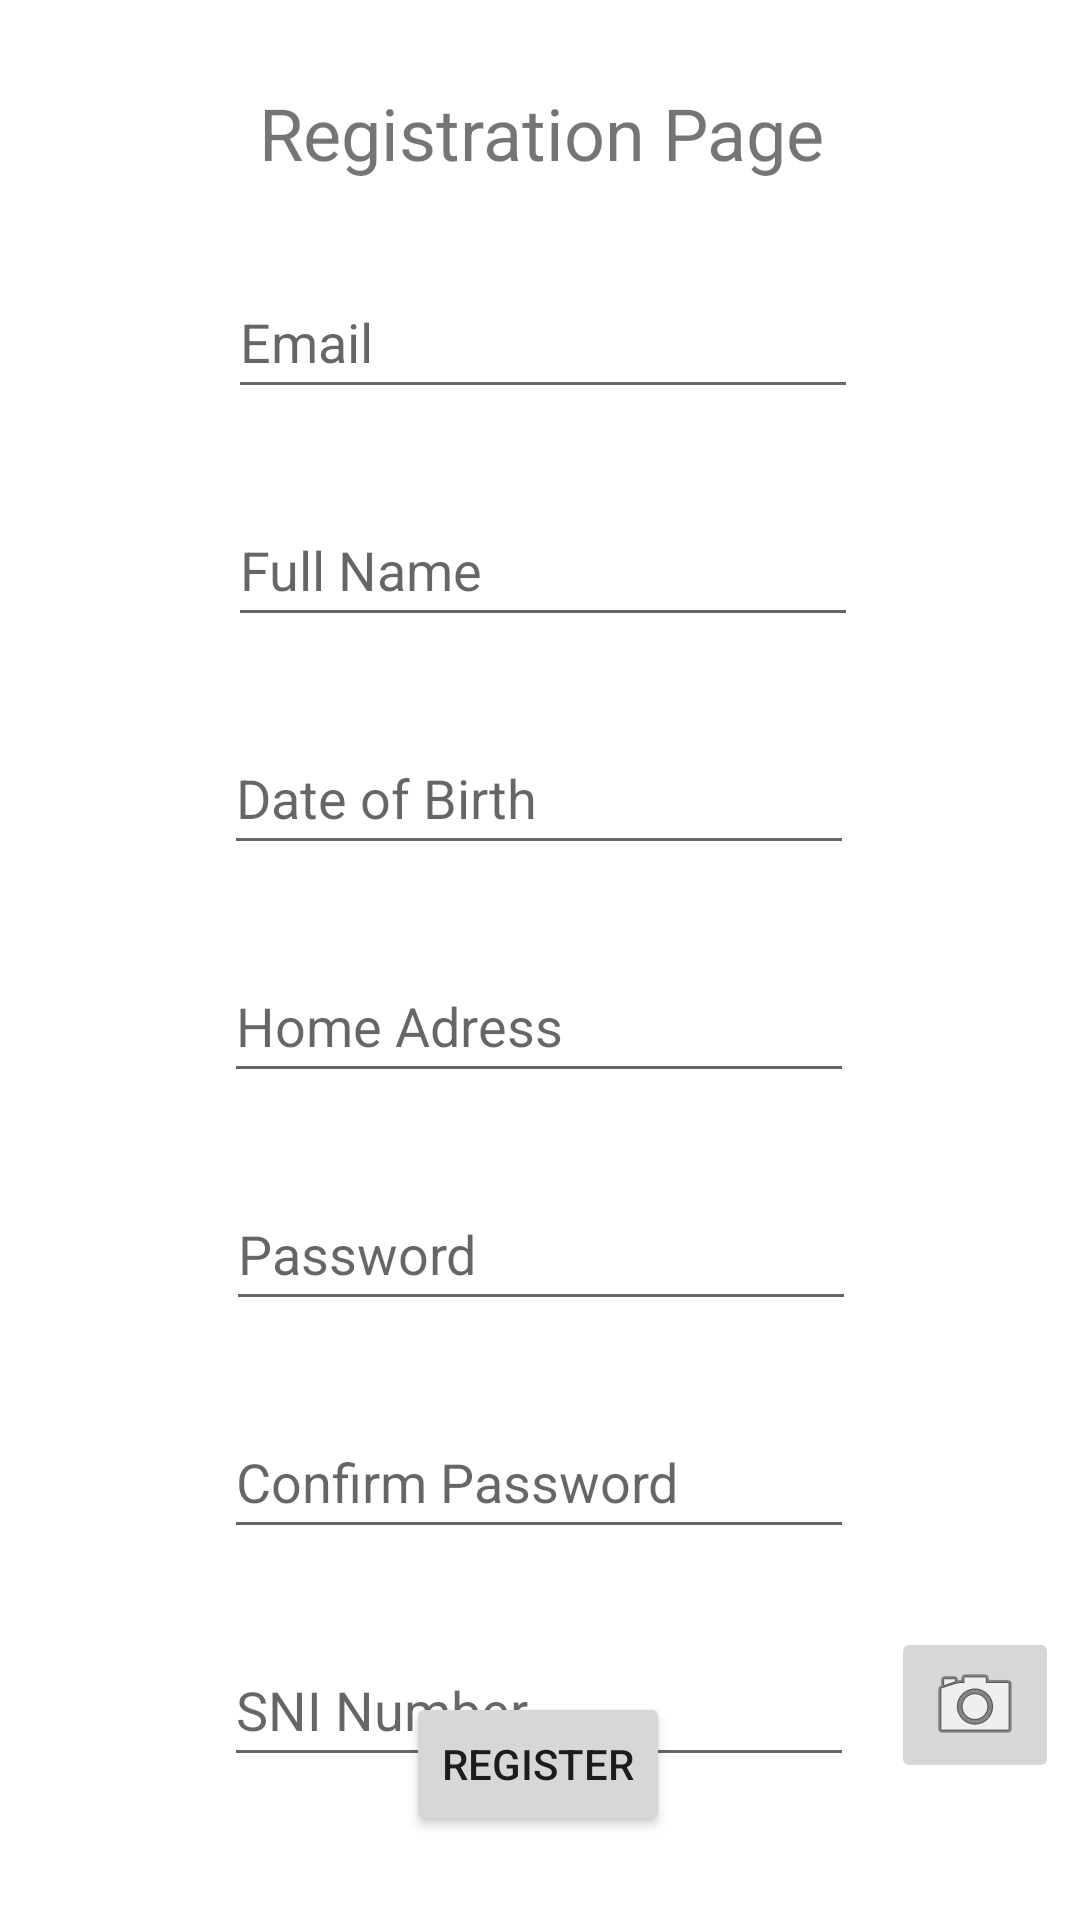

Icon click points for this 1080 × 1920 phone screenshot, format [x,y]:
camera: [975,1705]
